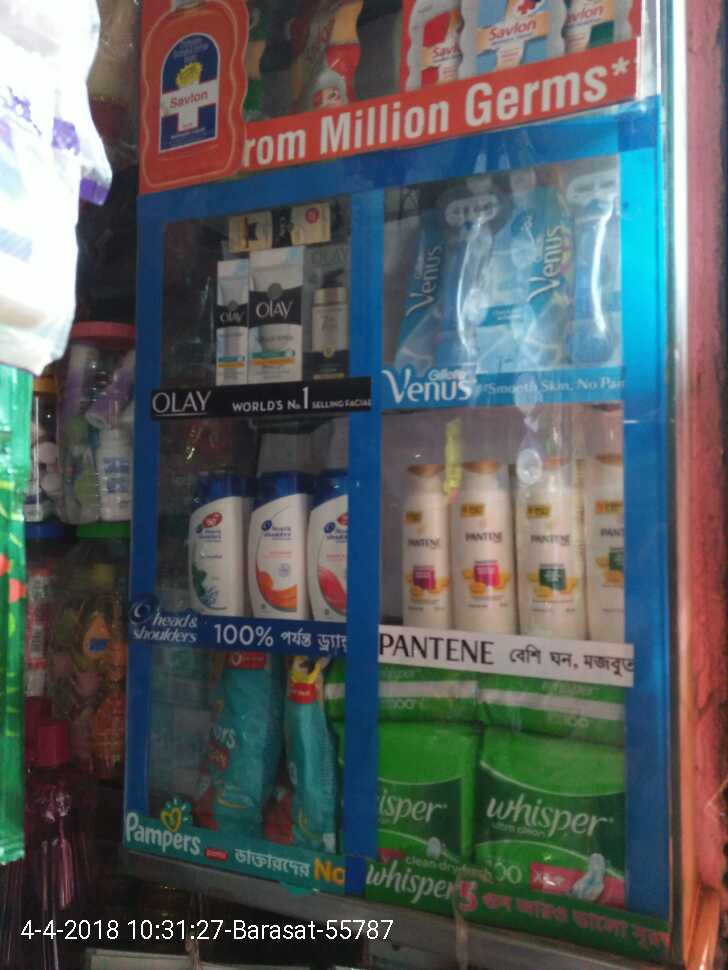venus: (409, 193, 522, 371), (522, 167, 619, 371)
